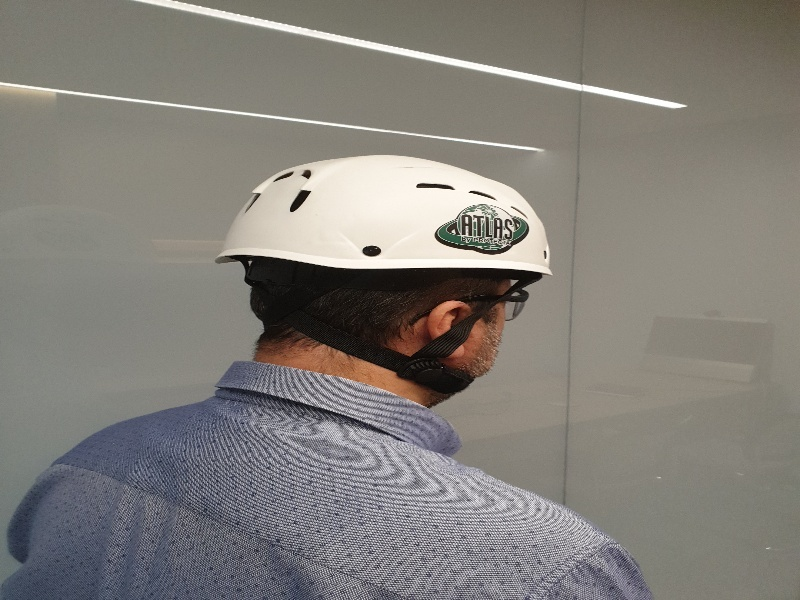Baret: (214, 154, 553, 281)
